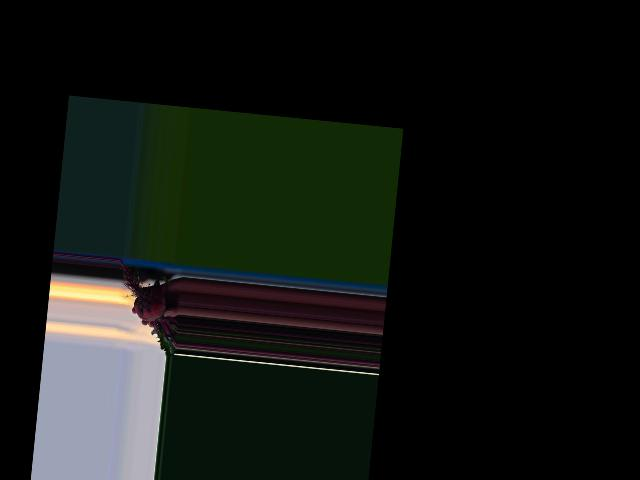beet: (111, 259, 183, 356)
